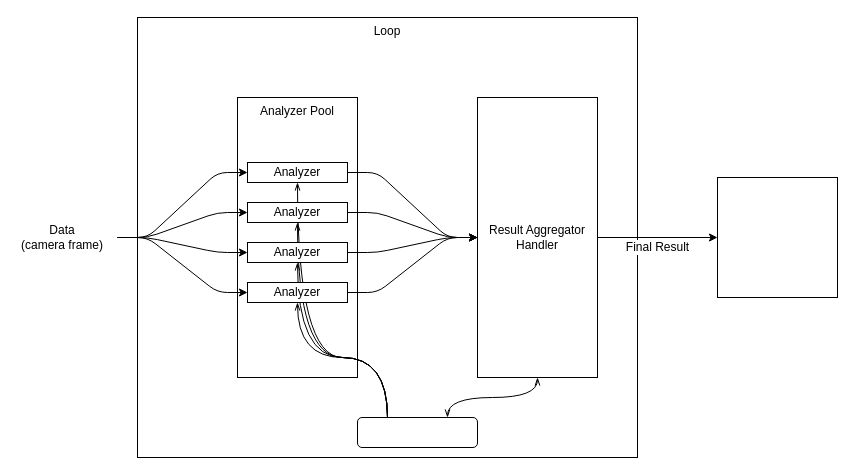
The diagram is 855 pixels wide and 475 high, and some of its shapes have lost their labels. Each missing label, with the centre of its shape:
"Aggregate Result Listener" goes at point (777, 237).
"shared state" goes at point (417, 432).
